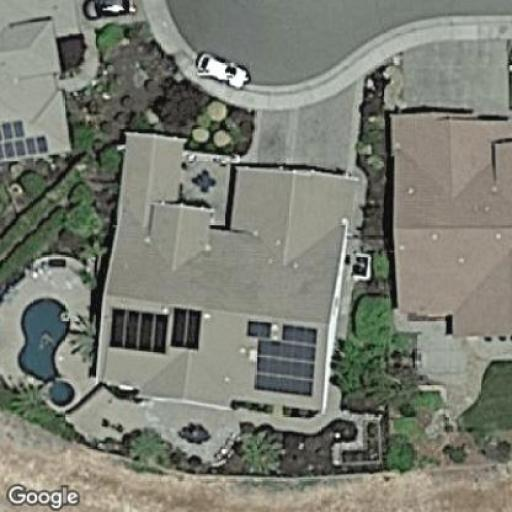solar-panel: (244, 317, 320, 399), (107, 303, 204, 355), (0, 116, 50, 158)
